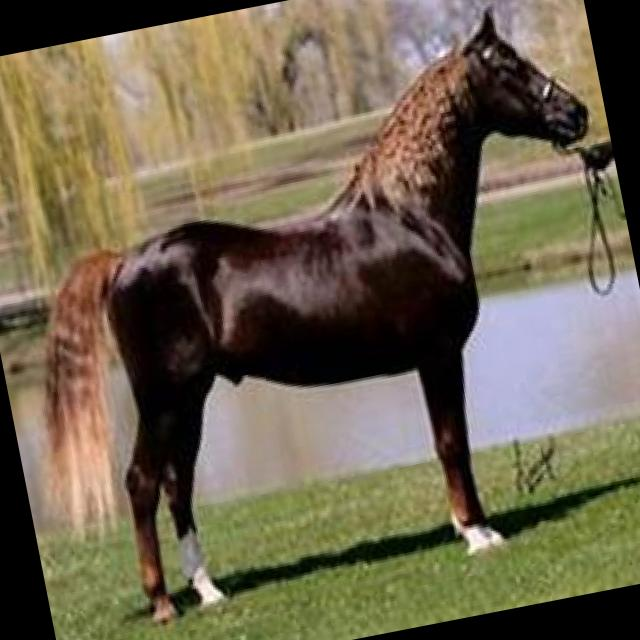horse: (48, 0, 640, 628)
